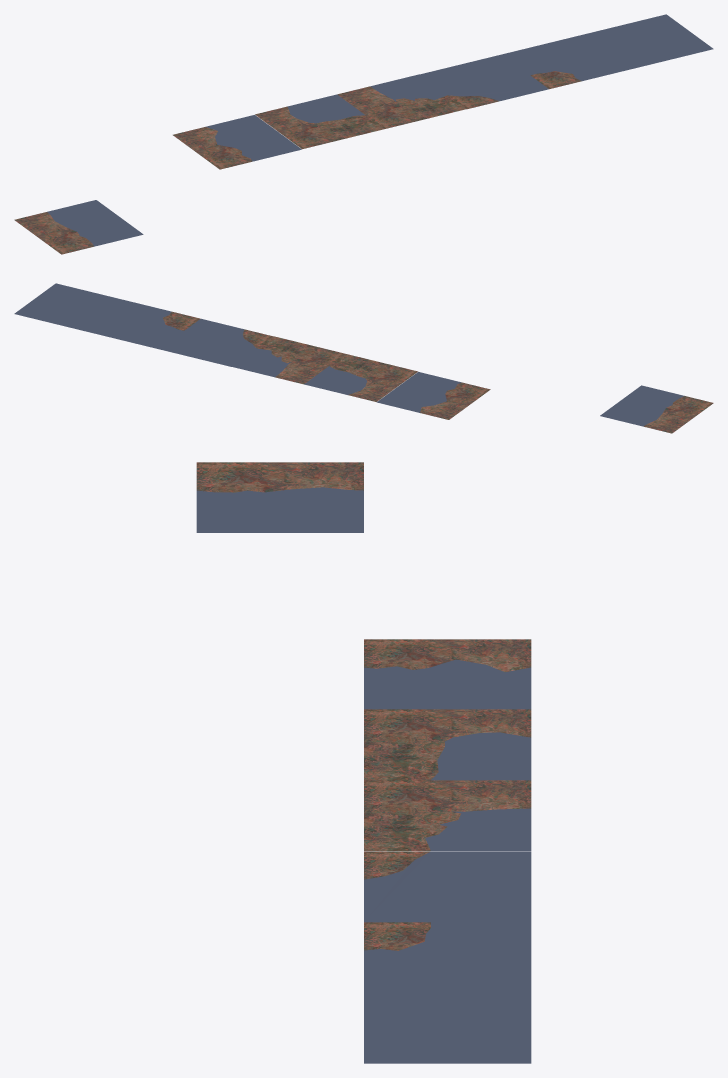
Rendered from cave_water_for_tiled.glb.
3 renders of one model, top to bottom at view 1: azimuth 30°, elevation 25°; view 2: azimuth 150°, elevation 25°; view 3: azimuth 270°, elevation 25°, orthographic. The views are drawn at different scales.
Visible parts, largest first — view 1: Water, water_concave1, water_convex2, water_edge2, water_edge1, water_concave2, water_convex1; view 2: Water, water_edge1, water_concave2, water_concave1, water_convex2, water_edge2, water_convex1; view 3: water_concave1, water_convex1, Water, water_convex2, water_edge1, water_concave2, water_edge2.
Boxes of the visible parts, <box> form: Water: <box>584,14,713,68</box>; water_concave1: <box>255,94,384,149</box>; water_convex2: <box>502,34,631,89</box>; water_edge2: <box>173,115,301,169</box>; water_edge1: <box>14,200,143,254</box>; water_concave2: <box>337,74,466,128</box>; water_convex1: <box>420,54,548,109</box>; Water: <box>14,283,127,331</box>; water_edge1: <box>600,385,713,433</box>; water_concave2: <box>232,336,345,384</box>; water_concave1: <box>304,354,417,401</box>; water_convex2: <box>87,301,200,349</box>; water_edge2: <box>377,372,490,419</box>; water_convex1: <box>159,318,272,366</box>; water_concave1: <box>364,709,531,780</box>; water_convex1: <box>364,851,531,922</box>; Water: <box>364,993,531,1063</box>; water_convex2: <box>364,922,531,992</box>; water_edge1: <box>196,462,363,532</box>; water_concave2: <box>364,780,531,850</box>; water_edge2: <box>364,639,531,709</box>.
Bounding box in the file's own units: 17 × 0.00895 × 4.
2 materials, 1 textured.
